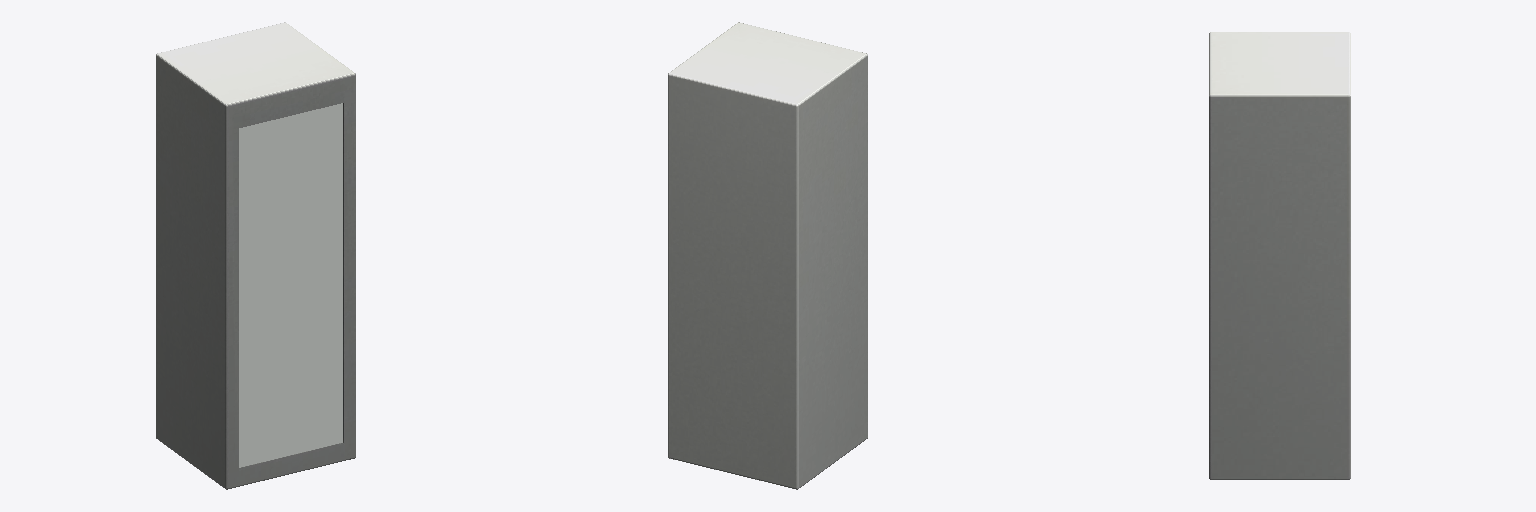
The picture shows the model from 3 angles: view 1: azimuth 30°, elevation 25°; view 2: azimuth 150°, elevation 25°; view 3: azimuth 270°, elevation 25°; orthographic projection.
Visible parts, largest first — view 1: ChamferBox24, Box167; view 2: ChamferBox24; view 3: ChamferBox24.
Boxes of the visible parts, <box> form: ChamferBox24: <box>156,22,355,489</box>; Box167: <box>239,103,342,467</box>; ChamferBox24: <box>668,22,867,489</box>; ChamferBox24: <box>1209,32,1350,479</box>.
Size of the model in its own units: 80 by 225 by 75.
Materials: 2 (1 with a texture image).